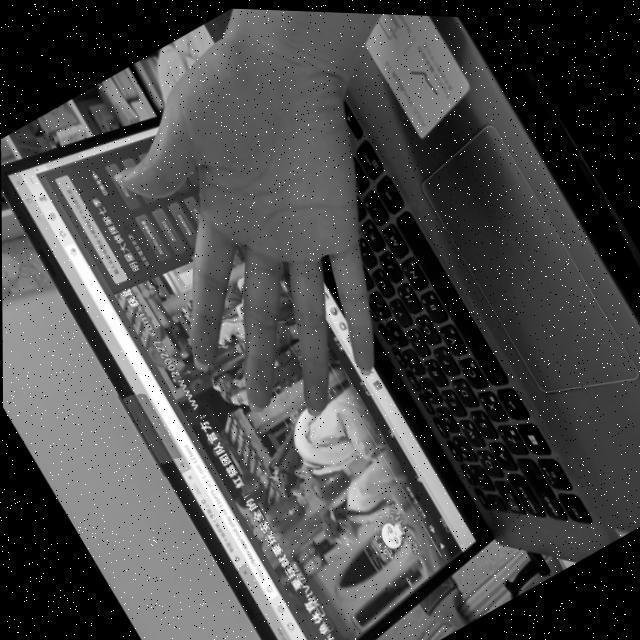no-gloves: (42, 1, 491, 466)
